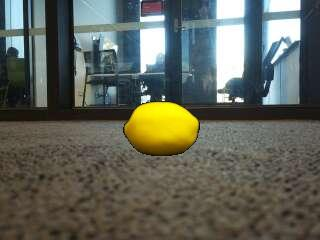lemon: (124, 103, 197, 153)
